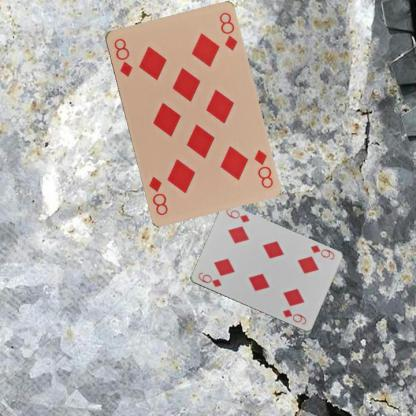6d: (195, 270, 223, 288), (308, 243, 336, 261)
8d: (110, 35, 134, 78), (251, 146, 274, 190)
